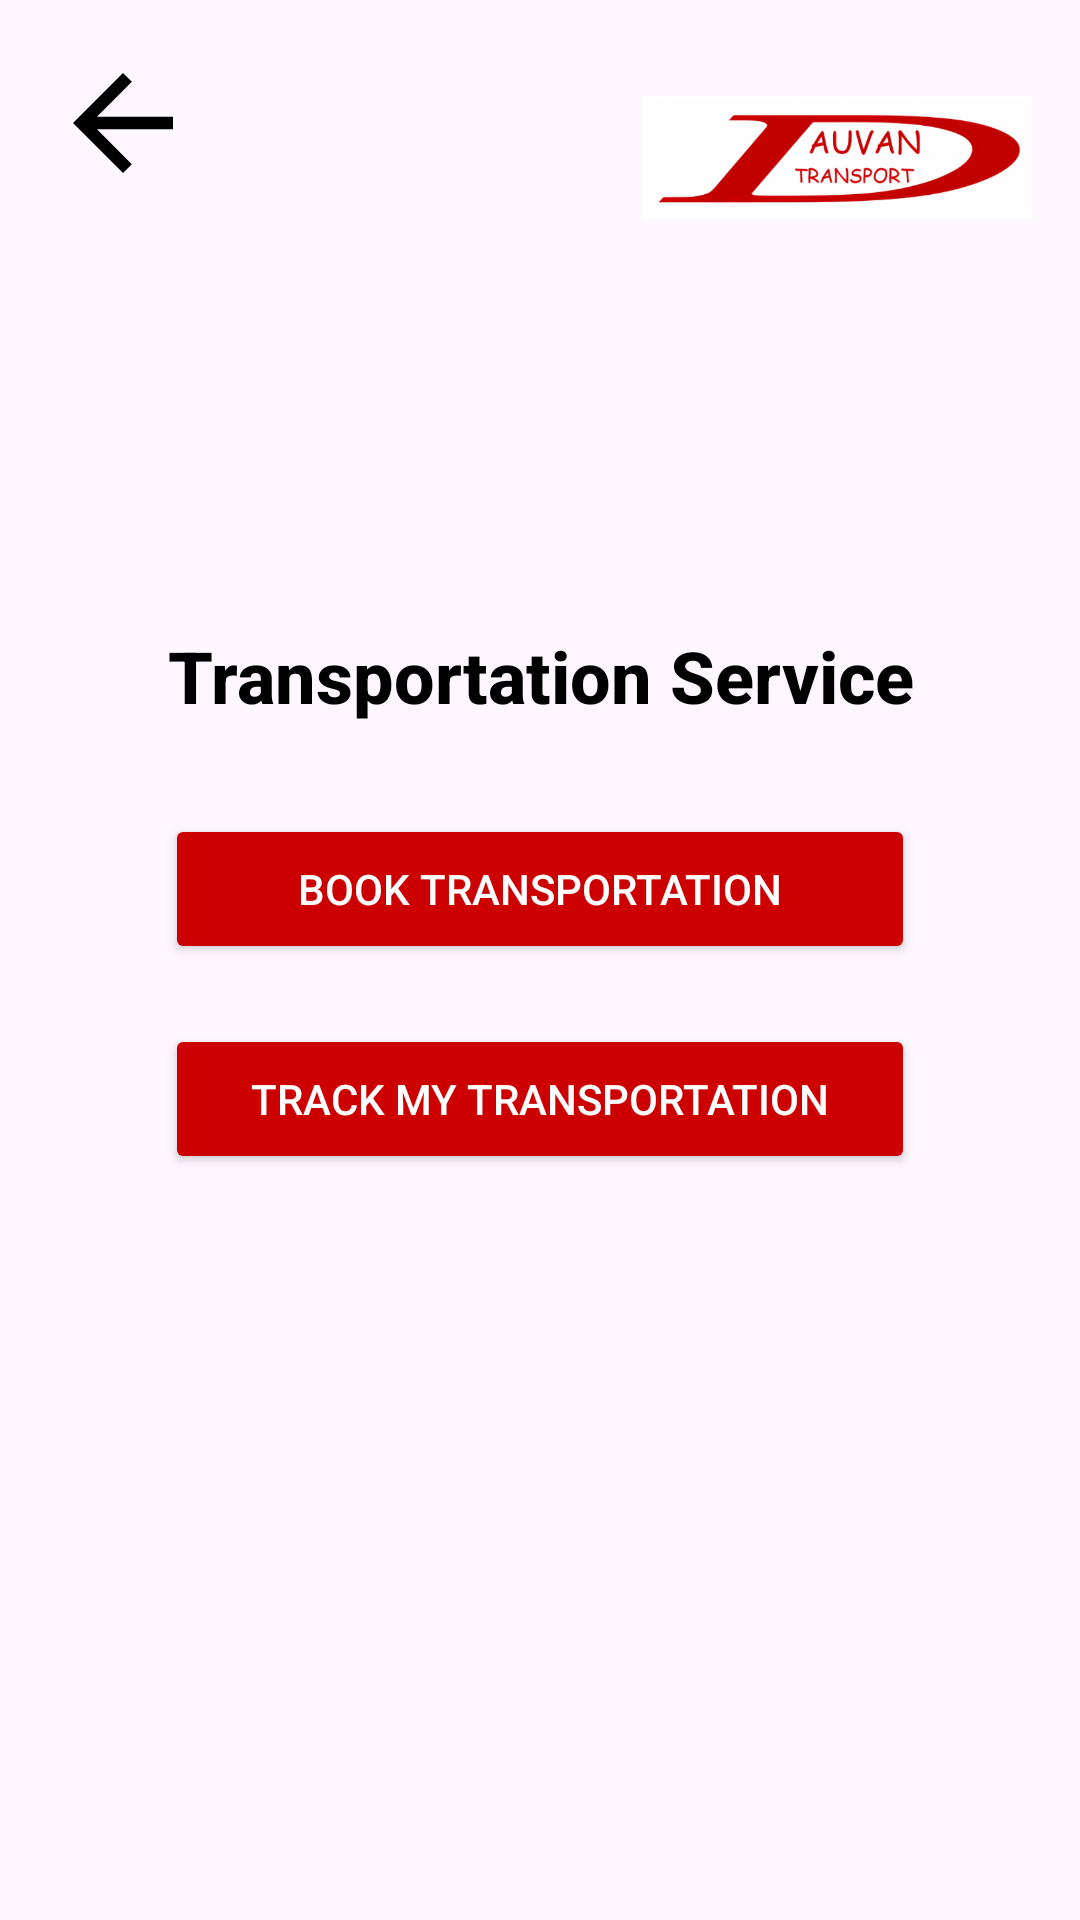

Icon bounding boxes for this 1080px x 1920px phone screenshot, format BBox(x1, y1, x2, y2):
back arrow: BBox(73, 73, 173, 173)
